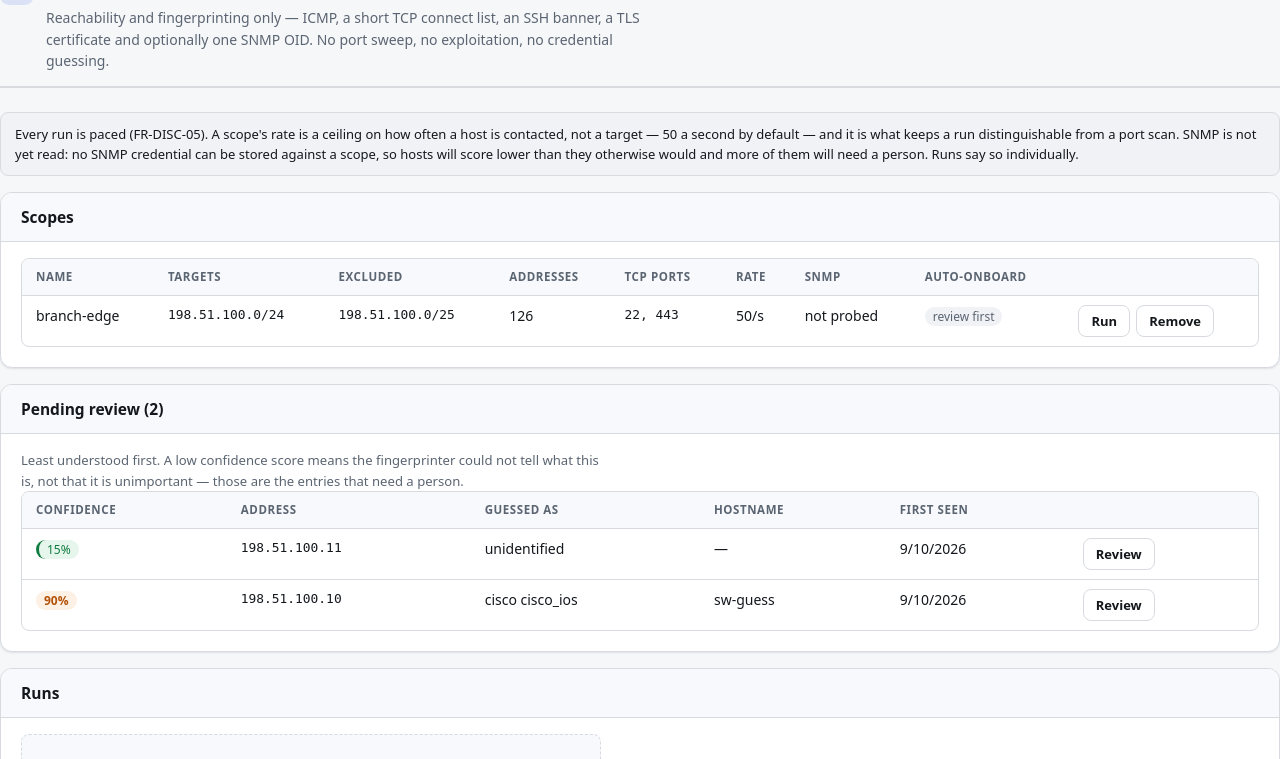
Test: DiscoveryPage › the review queue › will not submit a rejection without a reason
The image size is (1280, 759).
Expected: the text "198.51.100.11" is shown, [227, 528, 471, 580]
Click the button "Review" in the row of "15": (1119,554) [1083, 538, 1155, 570]
(page scrolled)
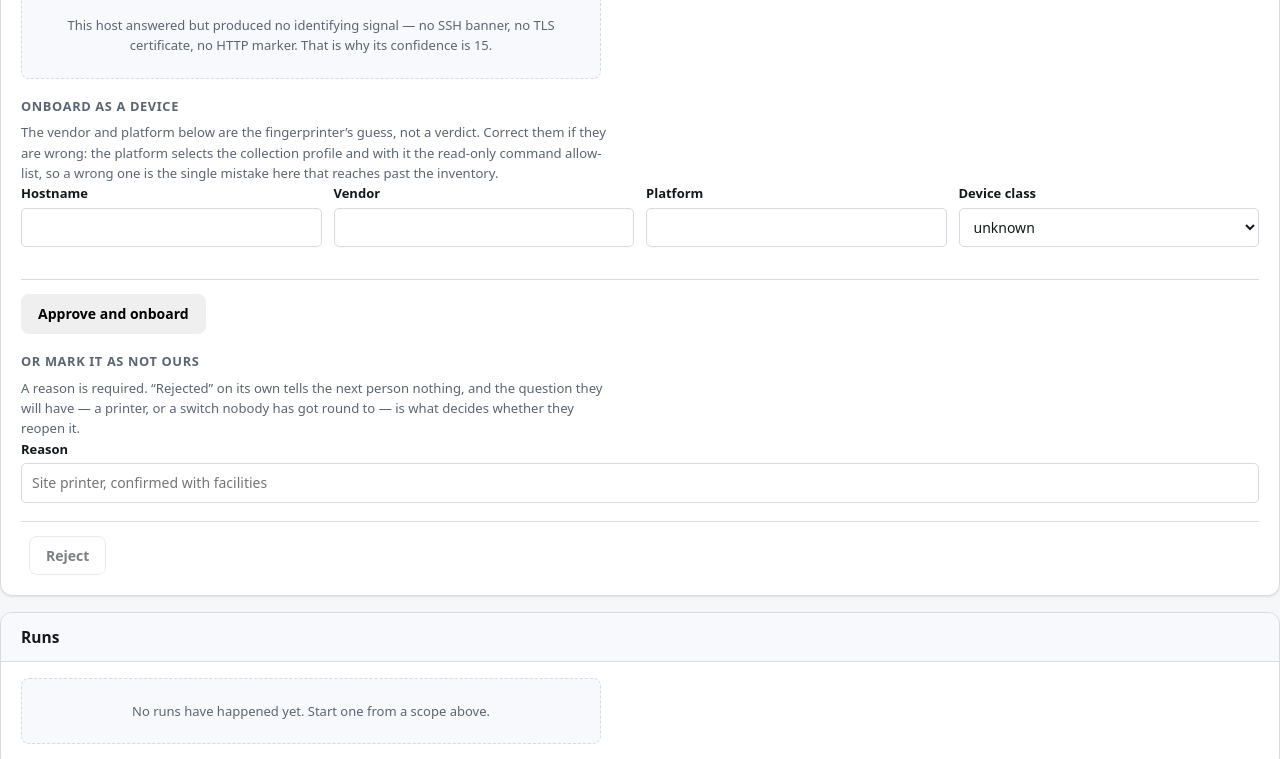
Now the button "Reject" is disabled, box [29, 536, 106, 575]
